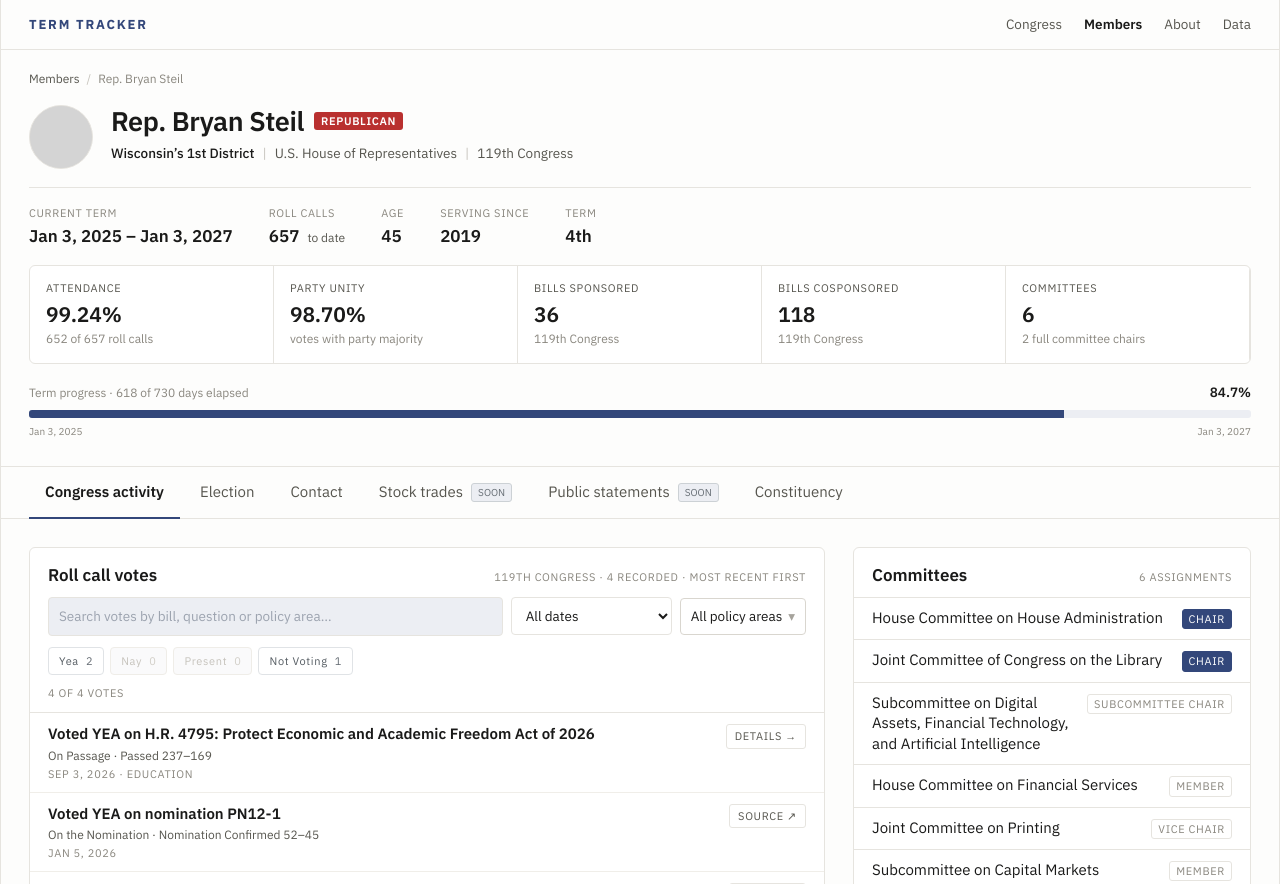
Test: member tabs › the Election tab holds the next election, key dates and fundraising
What coordinates should you click on to do the following:
click the tab "Election"
I would click on:
 (227, 493)
Its box is [184,467,270,519].
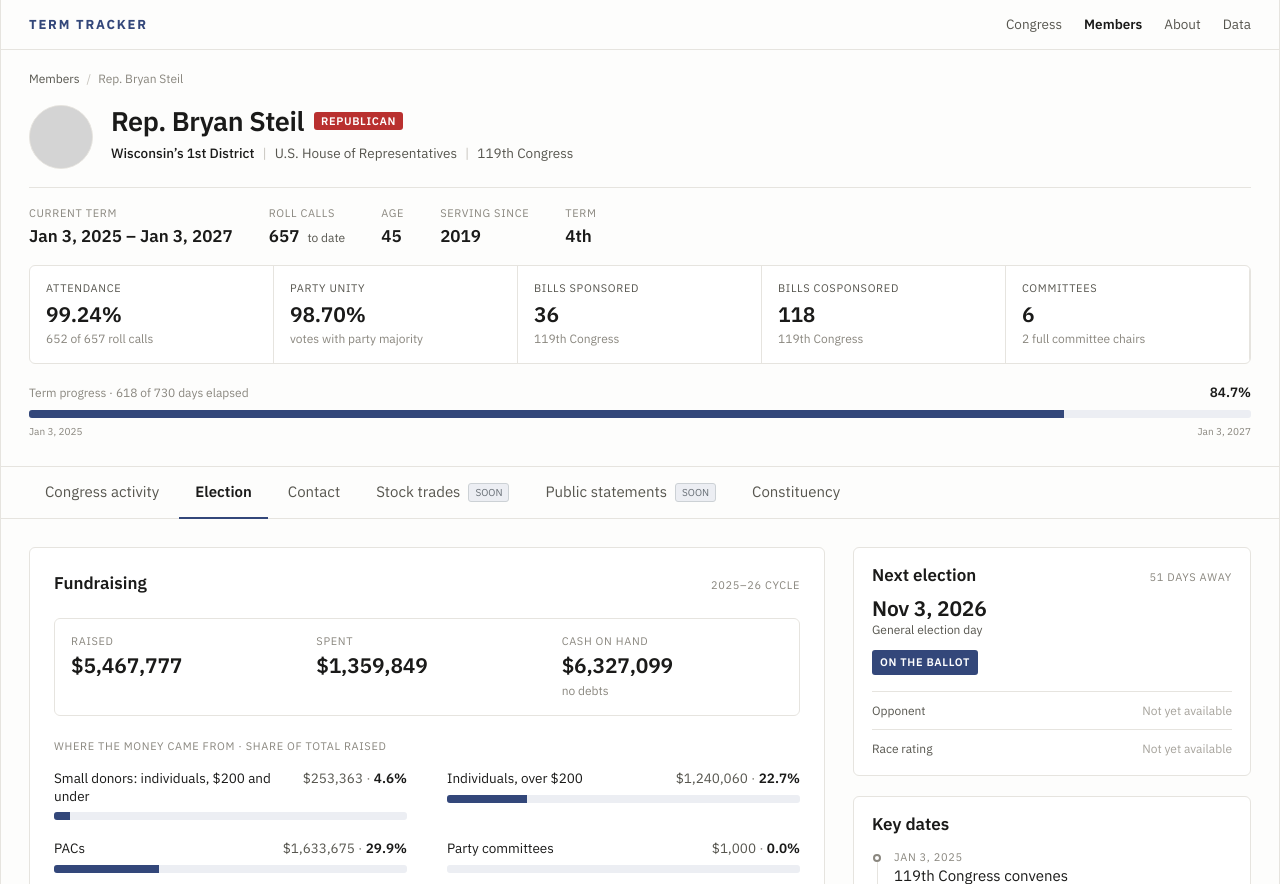
Now the heading "Next election" is shown, box [872,564,976,586]
Now the heading "Key dates" is shown, box [872,813,949,835]
Now the heading "Fundraising" is shown, box [54,572,147,594]
